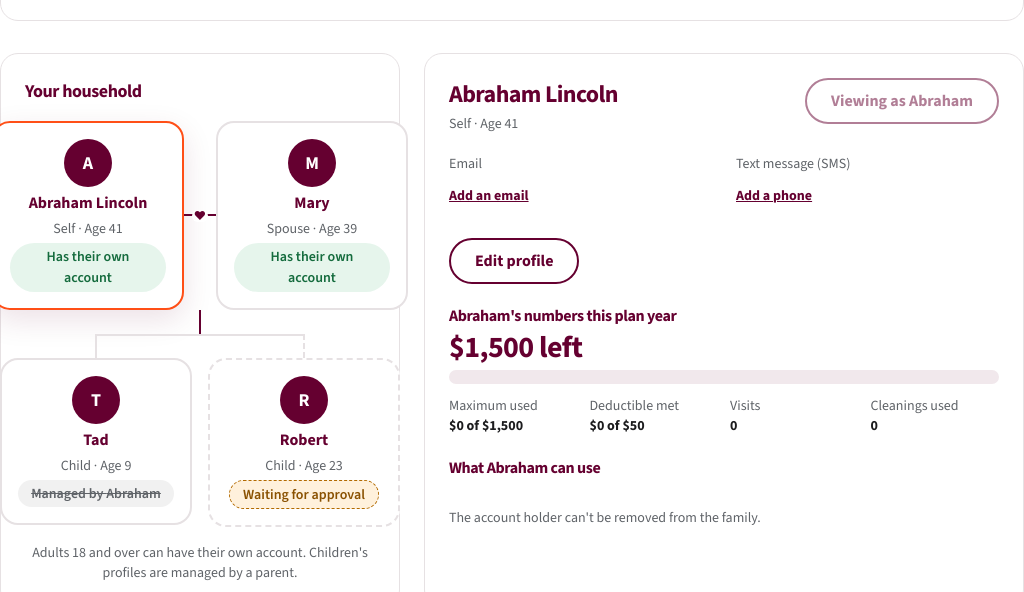
Test: Edit profile › shows the server's 422 message next to the form and keeps it open
(page scrolled)
Click the button with test id "node-m-alex" at [312, 215], box [216,121,408,310]
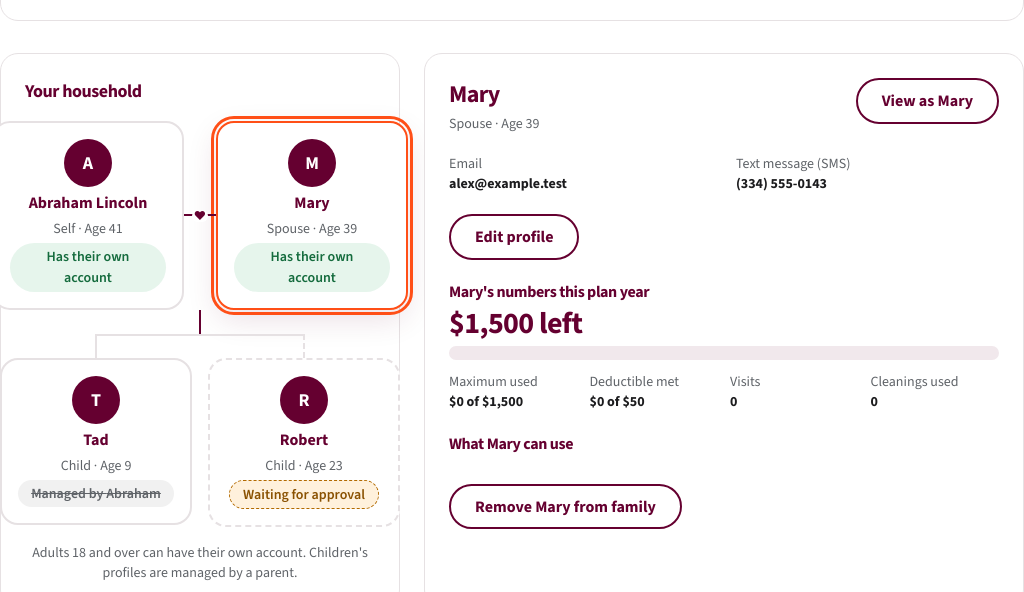
Click the button "Edit profile" at [514, 237], box [449,214,579,260]
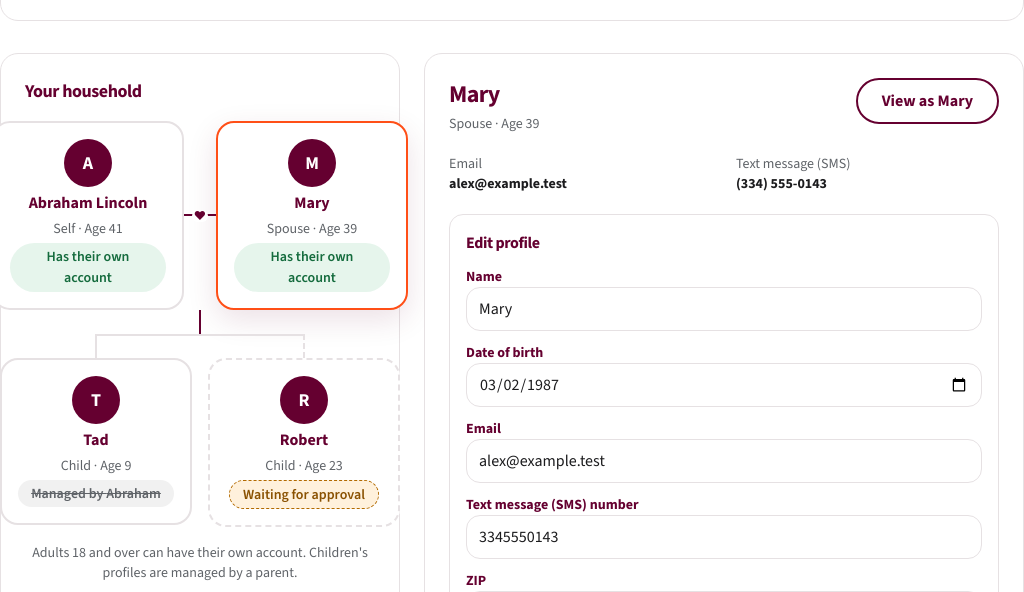
Type "x" into the field labelled "Email" at [724, 461], box [466,439,982,483]
(page scrolled)
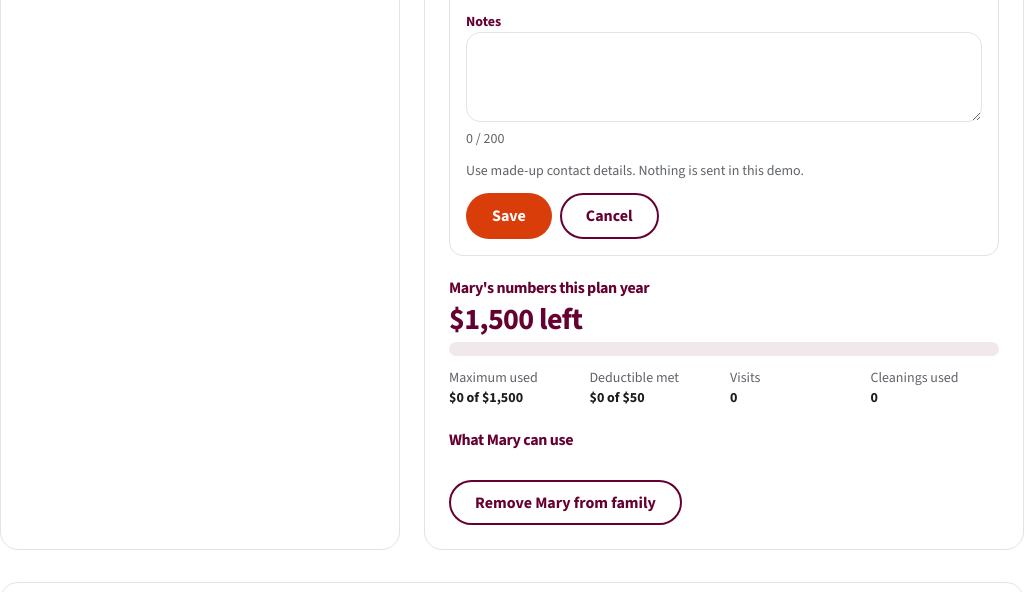
Click the button "Save" at [509, 216], box [466,193,552,239]
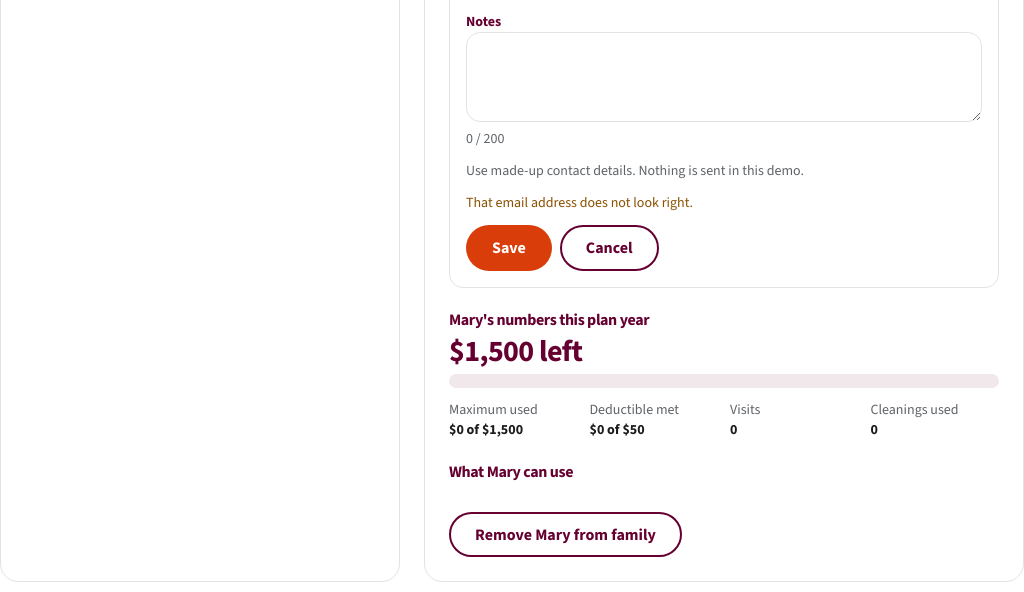
Now the button "Save" is enabled, box [466,225,552,271]
Now the message reads "That email address does not look right.", box [466,193,693,212]
